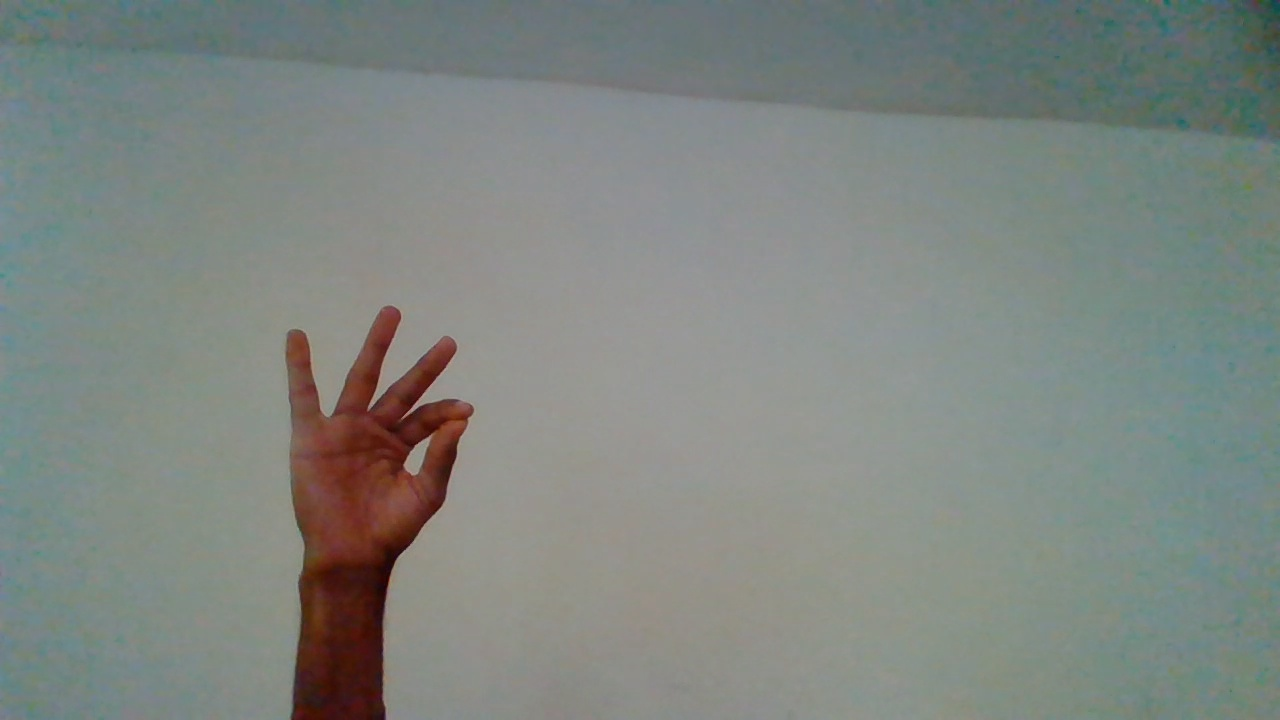le: (284, 306, 476, 681)
